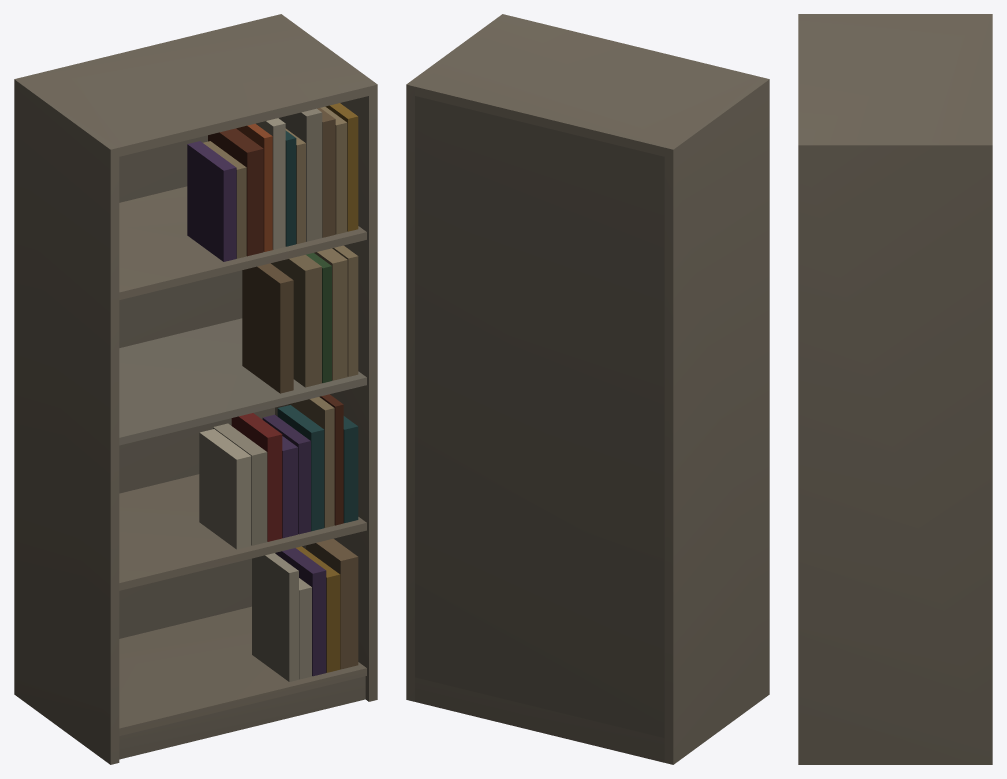
The model's file is bookcase.tall.sparse.glb.
3 renders of one model, left to right at view 1: azimuth 30°, elevation 25°; view 2: azimuth 150°, elevation 25°; view 3: azimuth 270°, elevation 25°, orthographic.
Visible parts, largest first — view 1: bookcase_tall_sparse; view 2: bookcase_tall_sparse; view 3: bookcase_tall_sparse.
Part boxes in pixels (box(x1,y1,x2,y2)): bookcase_tall_sparse: box(14, 14, 377, 764); bookcase_tall_sparse: box(406, 14, 769, 764); bookcase_tall_sparse: box(798, 14, 992, 764).
Size of what is drawn, in the model's own units: 0.909 by 2 by 0.568.
